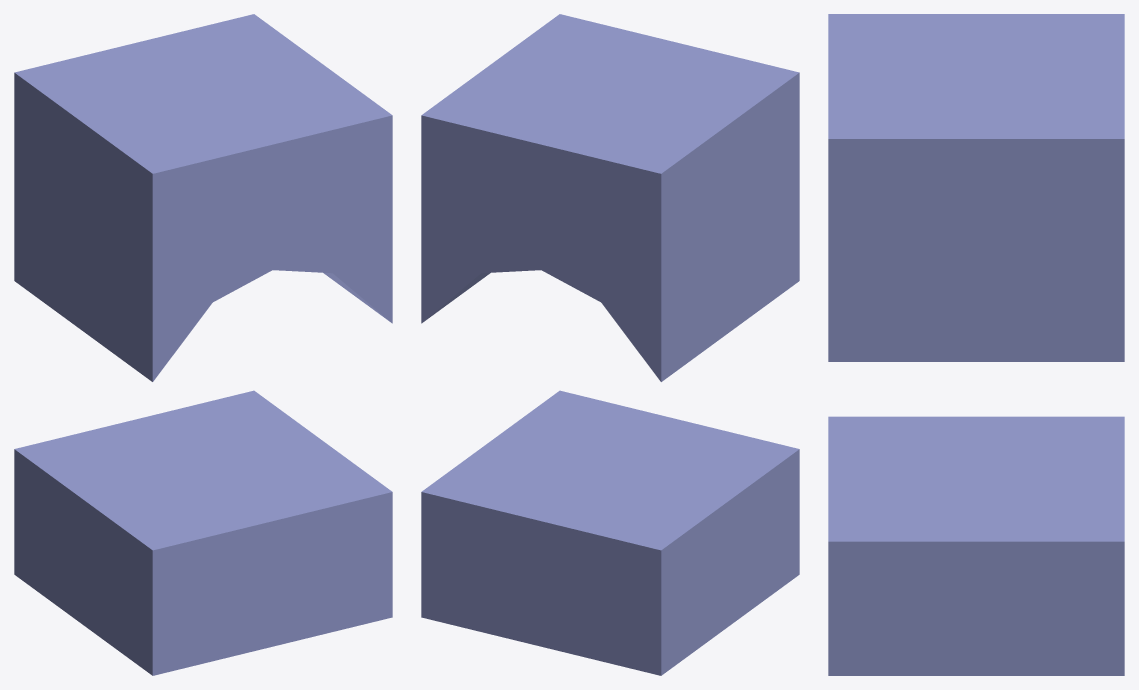
Rendered from archZ.fbx.
3 renders of one model, left to right at view 1: azimuth 30°, elevation 25°; view 2: azimuth 150°, elevation 25°; view 3: azimuth 270°, elevation 25°, orthographic. The views are drawn at different scales.
Visible parts, largest first — view 1: archY; view 2: archY; view 3: archY.
Boxes of the visible parts, x1,y1,x2,y2 form: archY: (14, 14, 392, 675); archY: (421, 14, 799, 675); archY: (828, 14, 1124, 675).
Size of the model in its own units: 200 by 400 by 200.
